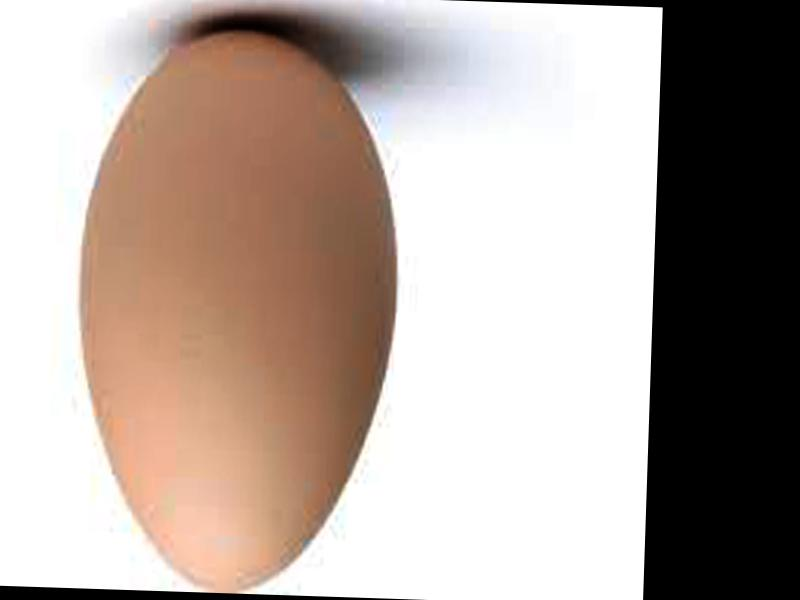Eggs: (70, 16, 404, 594)
